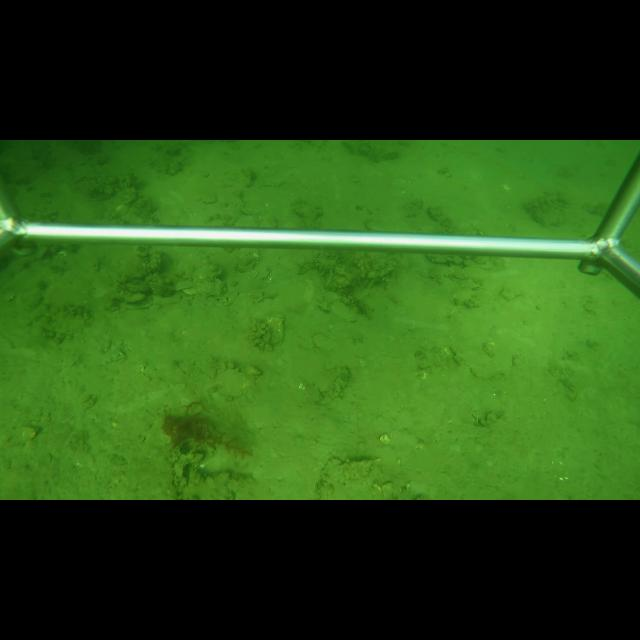Oyster-Closed: (264, 312, 287, 347), (327, 299, 357, 322), (194, 263, 224, 282), (118, 280, 150, 294)
